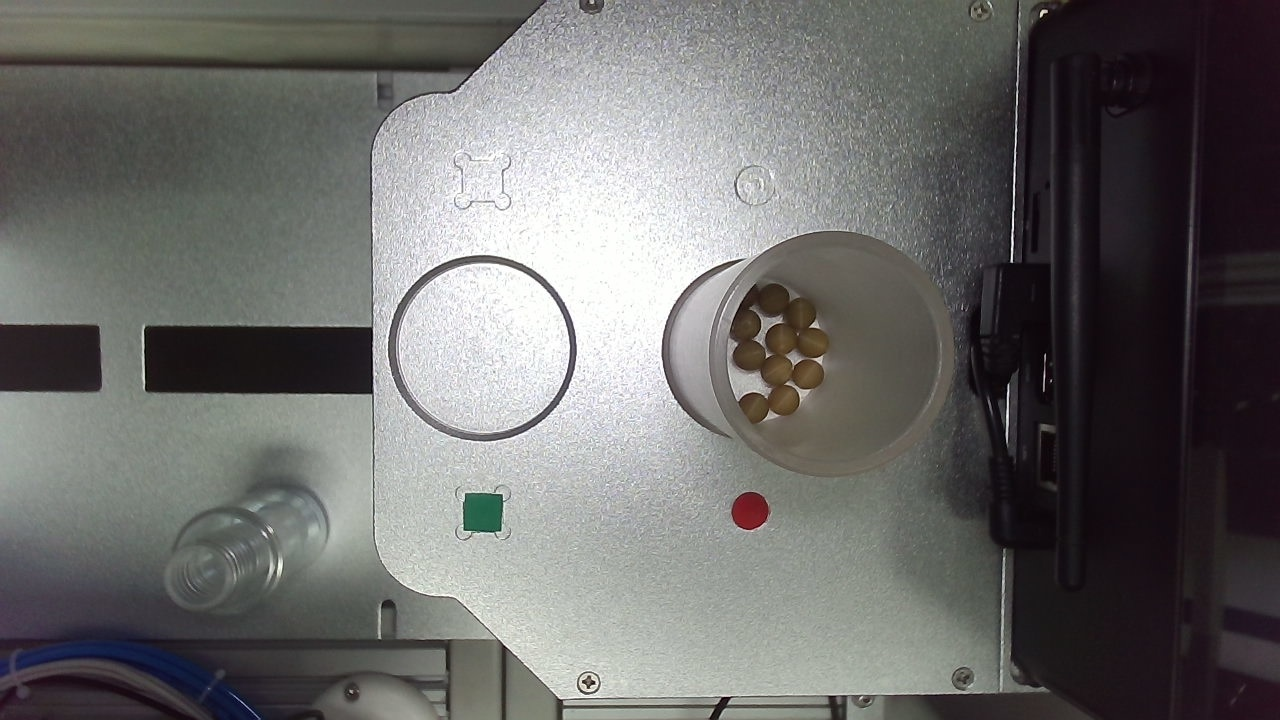XLabel: (598, 328, 632, 361)
YLabel: (378, 320, 414, 355)
none: (307, 393, 468, 555)
transparenexcept: (512, 399, 719, 623)
